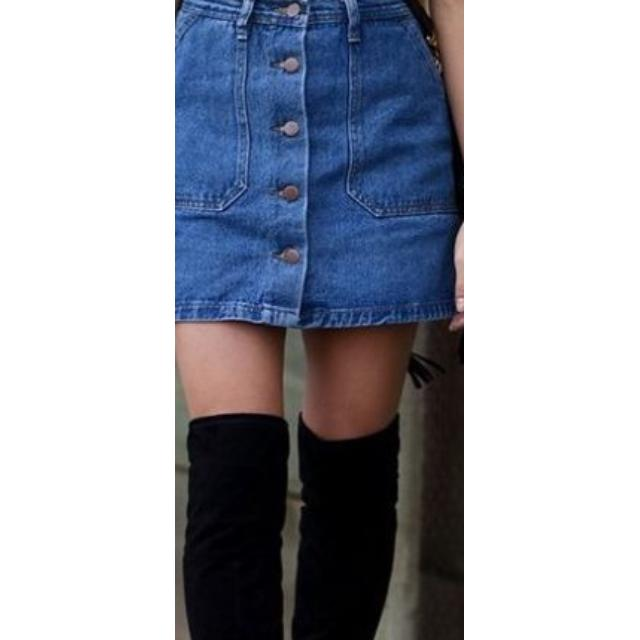denim: (176, 0, 434, 326)
